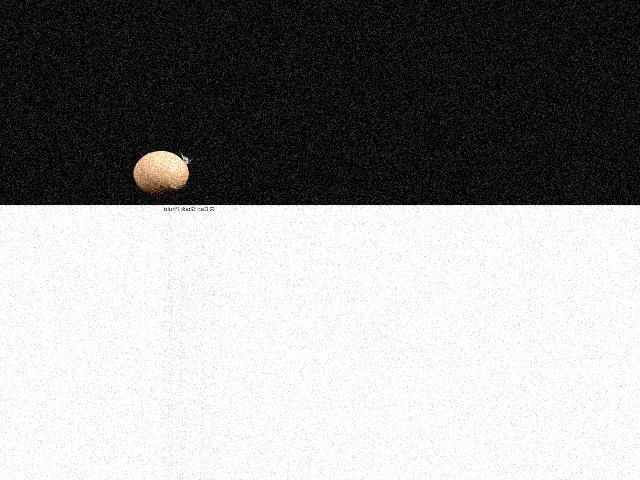egg: (132, 151, 188, 195)
